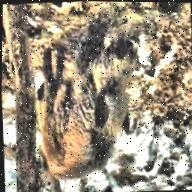boar: (30, 23, 147, 184)
